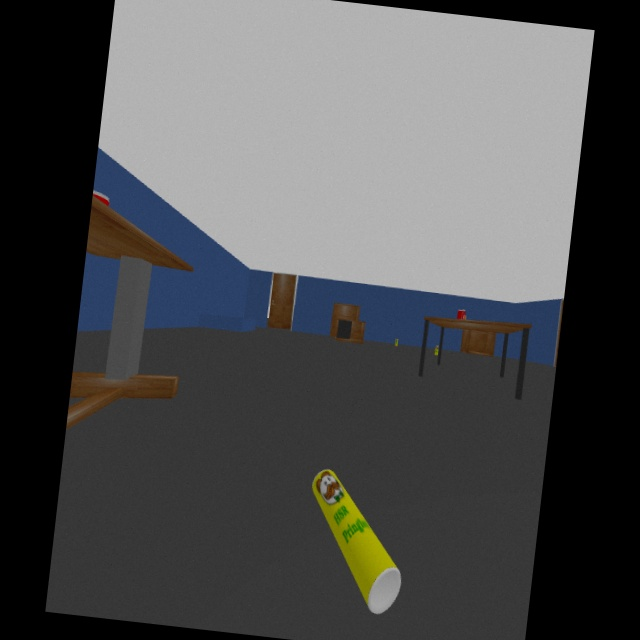chipsdose_gelb: (311, 469, 401, 616)
